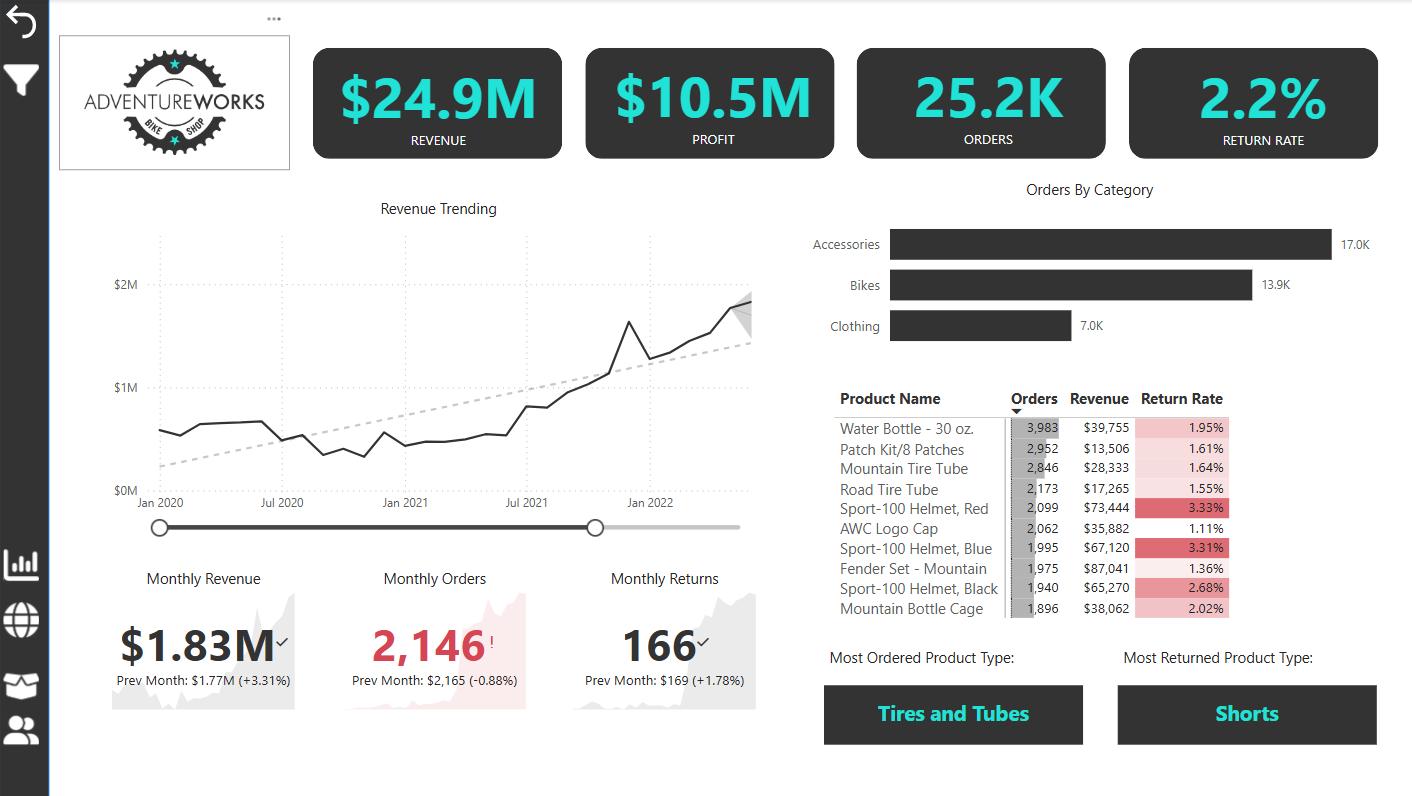

The page's visual inventory and layout, read from the dashboard file:
{"tool":"powerbi","page":{"name":"Exec Dashboard","canvas":[1280,720],"ordinal":0},"visuals":[{"type":"shape","title":"Left Navigation Background","box":[0,0,45.2,720.2],"z":0},{"type":"card","title":"Revenue KPI","fields":{"Values":["Measure Table.Total Revenue"]},"box":[291.1,19.1,209.1,150.4],"z":0,"group":"g2"},{"type":"group","id":"g1","title":"KPI Background","box":[282.5,44,961.1,100.3],"z":0,"group":"g3"},{"type":"shape","title":"Revenue KPI background","box":[282.5,44,225,100.3],"z":0,"group":"g1"},{"type":"actionButton","box":[0,490.4,45.2,40.4],"z":0,"group":"g4"},{"type":"group","id":"g2","title":"KPI Values","box":[291.1,18.3,952.6,151.6],"z":1000,"group":"g3"},{"type":"card","title":"Profit KPI","fields":{"Values":["Measure Table.Total Profit"]},"box":[538.9,18.3,209.1,150.4],"z":1000,"group":"g2"},{"type":"image","title":"AW Logo","box":[53.8,33,209.1,121.1],"z":1000},{"type":"shape","title":"Orders KPI background","box":[773.3,44,225,100.3],"z":1000,"group":"g1"},{"type":"actionButton","box":[0,540.1,45.2,40.4],"z":1000,"group":"g4"},{"type":"group","id":"g3","title":"KPIs","box":[282.5,18.3,961.1,151.6],"z":2000},{"type":"card","title":"Return Rate KPI","fields":{"Values":["Measure Table.Return Rate"]},"box":[1034.6,19.5,209.1,150.4],"z":2000,"group":"g2"},{"type":"shape","title":"Return Rate KPI background","box":[1018.6,44,225,100.3],"z":2000,"group":"g1"},{"type":"actionButton","box":[0,639.6,45.2,40.4],"z":2000,"group":"g4"},{"type":"card","title":"Orders KPI","fields":{"Values":["Measure Table.Total Orders"]},"box":[786.8,18.7,209.1,150.4],"z":3000,"group":"g2"},{"type":"shape","title":"Profit KPI background","box":[527.9,44,225,100.3],"z":3000,"group":"g1"},{"type":"lineChart","title":"Revenue Trending","fields":{"Y":["Measure Table.Total Revenue"],"Category":["Calendar Lookup.Year","Calendar Lookup.Start of Quarter","Calendar Lookup.Start of Month"]},"box":[97.8,179.8,596.7,308.2],"z":3000},{"type":"actionButton","box":[0,599.2,45.2,40.4],"z":3000,"group":"g4"},{"type":"kpi","title":"Monthly Revenue","fields":{"Indicator":["Measure Table.Total Revenue"],"TrendLine":["Calendar Lookup.Start of Month"],"Goal":["Measure Table.Previous Month Revenue"]},"box":[97.3,513.1,175,133.3],"z":4000},{"type":"kpi","title":"Monthly Orders","fields":{"TrendLine":["Calendar Lookup.Start of Month"],"Indicator":["Measure Table.Total Orders"],"Goal":["Measure Table.Previous Month Orders"]},"box":[305.3,513.1,174.9,133.3],"z":5000},{"type":"kpi","title":"Monthly Returns","fields":{"TrendLine":["Calendar Lookup.Start of Month"],"Indicator":["Measure Table.Total Returns"],"Goal":["Measure Table.Previous Month Return"]},"box":[513.1,513.1,174.9,133.3],"z":6000},{"type":"clusteredBarChart","title":"Orders By Category","fields":{"Category":["Product Categories Lookup.CategoryName"],"Y":["Measure Table.Total Orders"]},"box":[723.9,162.1,519.7,167.5],"z":7000},{"type":"pivotTable","fields":{"Rows":["Product Lookup.ProductName"],"Values":["Measure Table.Total Orders","Measure Table.Total Revenue","Measure Table.Return Rate"]},"box":[748.4,346.1,370.5,233.6],"z":8000},{"type":"card","fields":{"Values":["Min(Product Subcategories Lookup.SubcategoryName)"]},"box":[743.5,618.8,233.8,53.8],"z":9000},{"type":"textbox","box":[743.5,579.6,190.8,39.1],"z":10000},{"type":"card","fields":{"Values":["Min(Product Subcategories Lookup.SubcategoryName)"]},"box":[1008.5,618.8,233.8,53.8],"z":11000},{"type":"textbox","box":[1008.8,579.6,194.4,39.1],"z":12000},{"type":"actionButton","box":[0,0,45.2,40.4],"z":13000},{"type":"group","id":"g4","title":"Navigation Buttons","box":[0,490.4,45.2,189.5],"z":14000},{"type":"actionButton","box":[0,52.6,45.2,40.4],"z":15000}]}

Visuals, with their boxes on the page's 1280x720 design canvas (x1, y1, x2, y2). These are canvas units, not pixel positions in the 1412x796 screenshot, which may show the page scaled, cropped or inside an application window:
"Left Navigation Background" shape: BBox(0, 0, 45, 720)
"Revenue KPI" card: BBox(291, 19, 500, 170)
"KPI Background" group: BBox(282, 44, 1244, 144)
"Revenue KPI background" shape: BBox(282, 44, 508, 144)
actionButton: BBox(0, 490, 45, 531)
"KPI Values" group: BBox(291, 18, 1244, 170)
"Profit KPI" card: BBox(539, 18, 748, 169)
"AW Logo" image: BBox(54, 33, 263, 154)
"Orders KPI background" shape: BBox(773, 44, 998, 144)
actionButton: BBox(0, 540, 45, 580)
"KPIs" group: BBox(282, 18, 1244, 170)
"Return Rate KPI" card: BBox(1035, 20, 1244, 170)
"Return Rate KPI background" shape: BBox(1019, 44, 1244, 144)
actionButton: BBox(0, 640, 45, 680)
"Orders KPI" card: BBox(787, 19, 996, 169)
"Profit KPI background" shape: BBox(528, 44, 753, 144)
"Revenue Trending" lineChart: BBox(98, 180, 694, 488)
actionButton: BBox(0, 599, 45, 640)
"Monthly Revenue" kpi: BBox(97, 513, 272, 646)
"Monthly Orders" kpi: BBox(305, 513, 480, 646)
"Monthly Returns" kpi: BBox(513, 513, 688, 646)
"Orders By Category" clusteredBarChart: BBox(724, 162, 1244, 330)
pivotTable - Product Lookup.ProductName x Measure Table.Total Orders: BBox(748, 346, 1119, 580)
card - Min(Product Subcategories Lookup.SubcategoryName): BBox(744, 619, 977, 673)
textbox: BBox(744, 580, 934, 619)
card - Min(Product Subcategories Lookup.SubcategoryName): BBox(1008, 619, 1242, 673)
textbox: BBox(1009, 580, 1203, 619)
actionButton: BBox(0, 0, 45, 40)
"Navigation Buttons" group: BBox(0, 490, 45, 680)
actionButton: BBox(0, 53, 45, 93)
